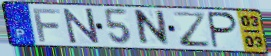5: (102, 7, 133, 48)
F: (31, 7, 63, 44)
N: (61, 8, 102, 45), (135, 9, 172, 48)
P: (207, 10, 240, 50)
Z: (171, 11, 213, 49)
